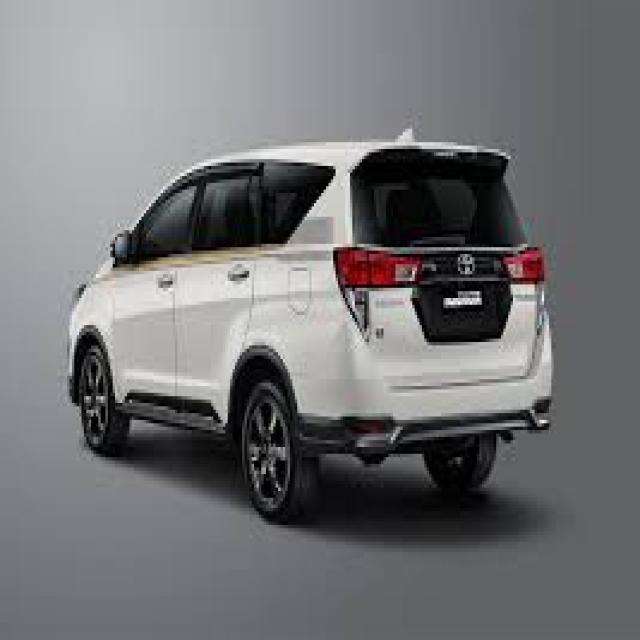light_vehicle: (68, 144, 554, 525)
